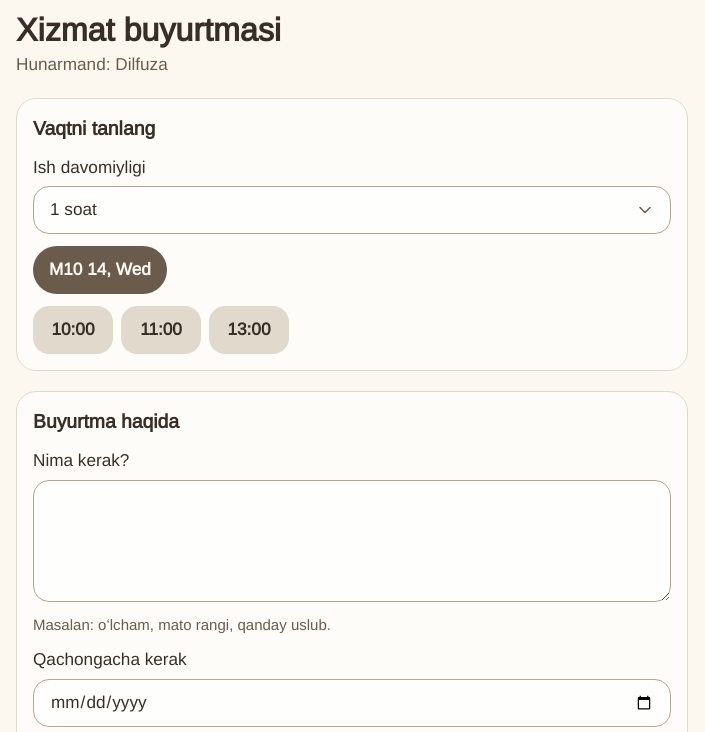
Test: new service order page › explains when no slot fits the chosen duration
Check: the button "10:00" is shown, box [33,306,113,354]
Select "5 soat" in the dropdown labelled "Ish davomiyligi" at [352, 210], box [33,186,671,234]
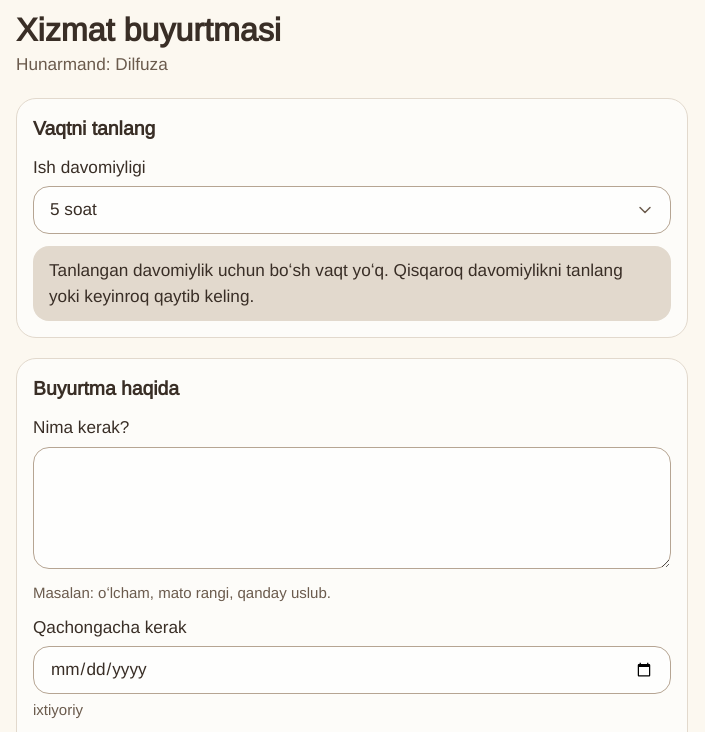
Check: the text "boʻsh vaqt yoʻq" is shown, box [49,261,623,306]
